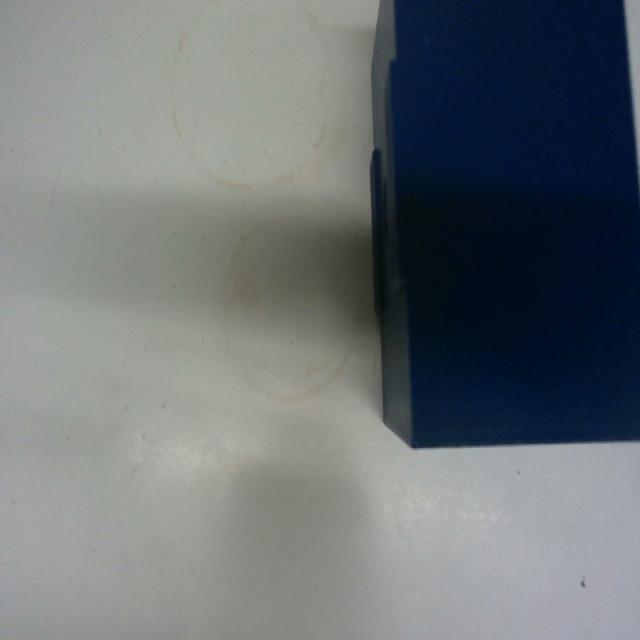Blue Cuboid: (366, 0, 639, 451)
